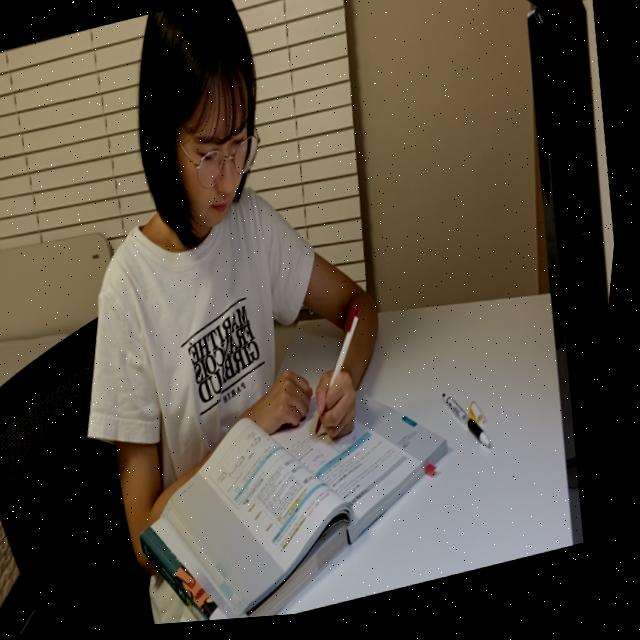studying-person: (7, 0, 523, 637)
